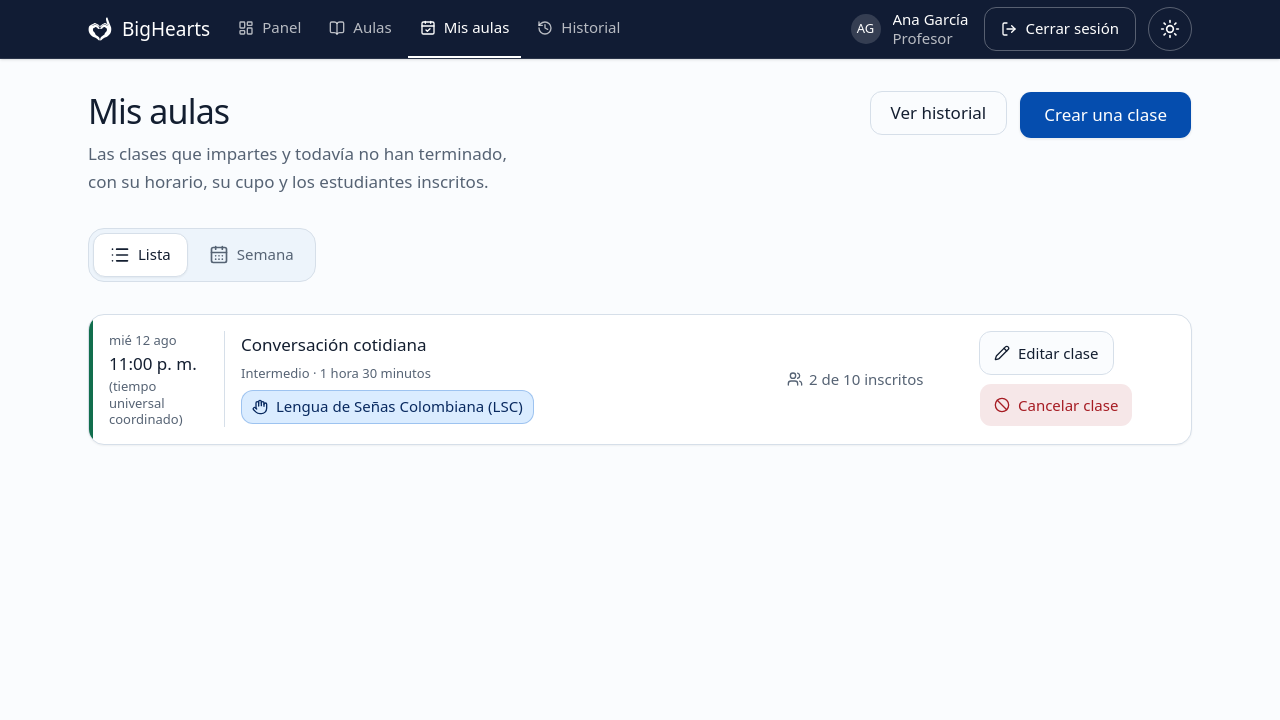
Test case: De la tarjeta al detalle (B6, AC8) › desde /mis-aulas, pulsar el título del aula lleva a su detalle
This screenshot has width=1280, height=720.
Click the link "Conversación cotidiana": coordinates (334, 344) top-left (241, 333), bottom-right (427, 356)
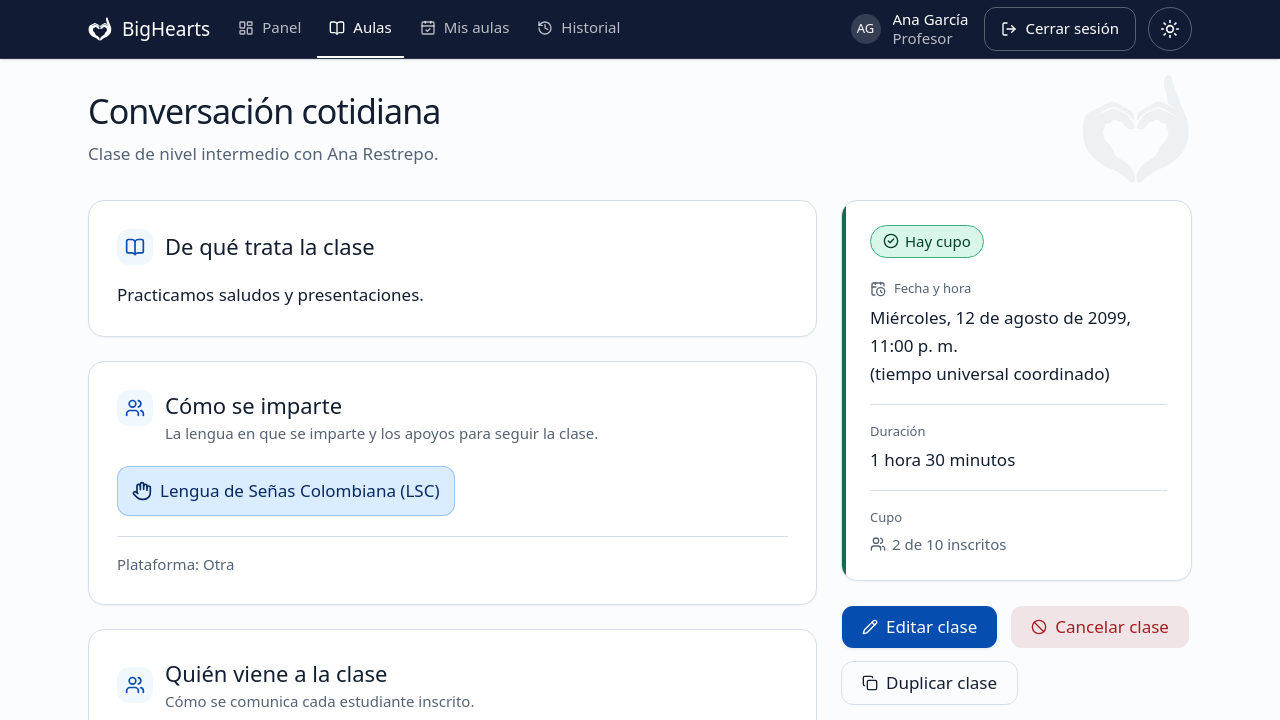
Expected: the heading "Conversación cotidiana" is shown, top-left (88, 91), bottom-right (440, 132)
